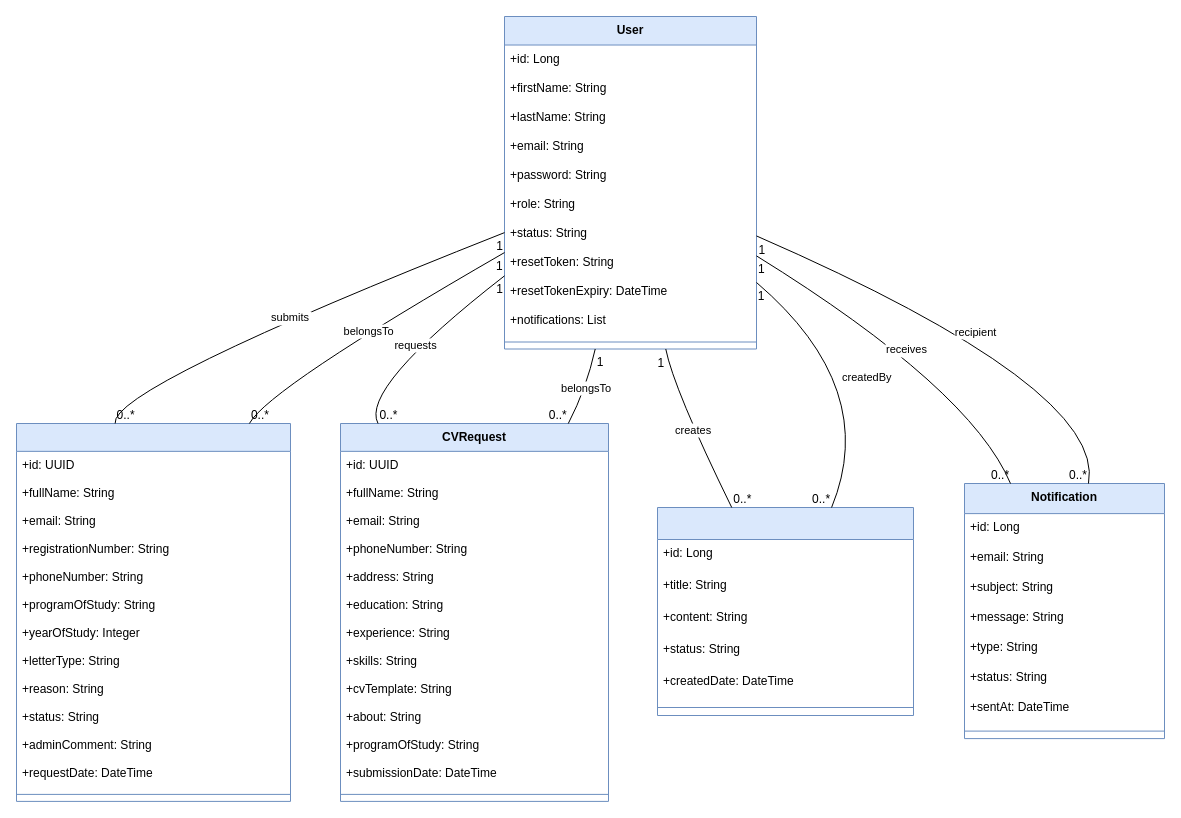
Some shapes in this 1181 by 818 pixel diagram are drawn without their labels. Each missing label, with the box of its shape:
Announcement: (656, 506, 914, 716)
LetterRequest: (16, 422, 290, 801)
